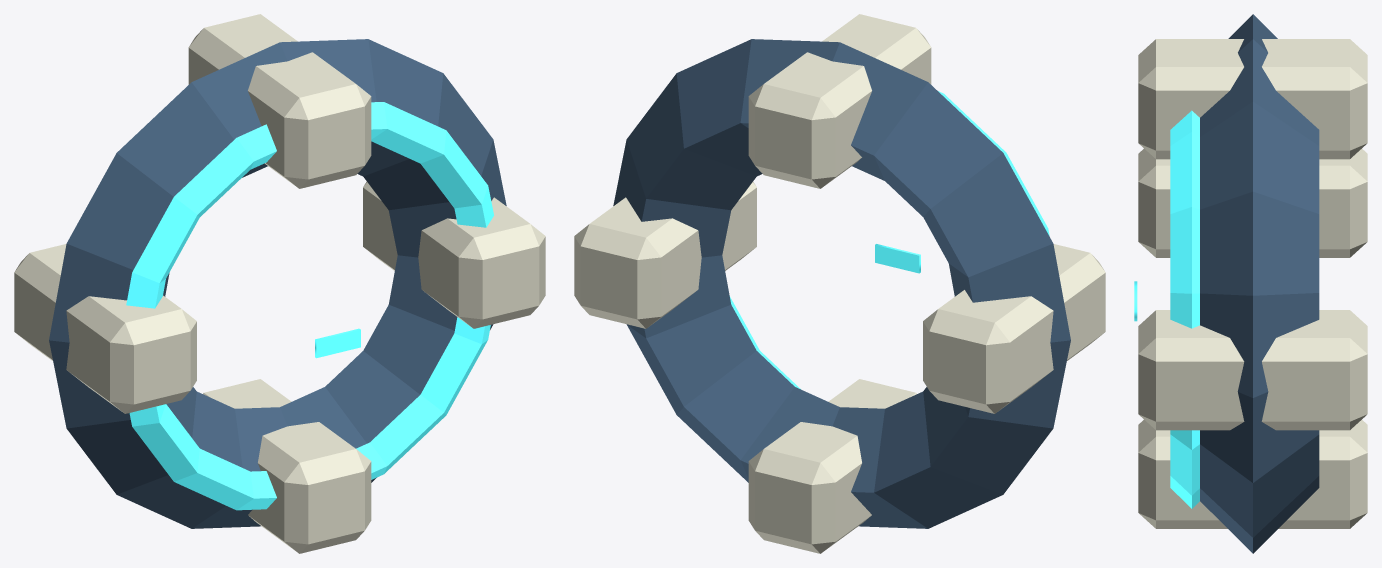
Rendered from shrink_ring.glb.
3 renders of one model, left to right at view 1: azimuth 30°, elevation 25°; view 2: azimuth 150°, elevation 25°; view 3: azimuth 270°, elevation 25°, orthographic.
Visible parts, largest first — view 1: Space gate, Active rim, Field coil.002, Field coil.001, Field coil, Field coil.003, Space glyph; view 2: Space gate, Field coil.002, Field coil.001, Field coil, Field coil.003, Active rim, Space glyph; view 3: Space gate, Field coil, Field coil.001, Field coil.003, Active rim, Field coil.002.
Boxes of the visible parts, x1,y1,x2,y2 form: Space gate: [49, 39, 506, 528]; Active rim: [126, 102, 493, 510]; Field coil.002: [14, 244, 196, 413]; Field coil.001: [188, 14, 371, 188]; Field coil: [363, 181, 545, 328]; Field coil.003: [203, 379, 371, 553]; Space glyph: [315, 328, 360, 358]; Space gate: [613, 39, 1070, 528]; Field coil.002: [923, 244, 1105, 413]; Field coil.001: [748, 14, 931, 188]; Field coil: [574, 181, 756, 328]; Field coil.003: [748, 379, 916, 553]; Active rim: [729, 91, 1049, 389]; Space glyph: [875, 244, 920, 273]; Space gate: [1200, 14, 1319, 553]; Field coil: [1138, 310, 1367, 430]; Field coil.001: [1138, 39, 1367, 159]; Field coil.003: [1138, 420, 1367, 528]; Active rim: [1170, 110, 1199, 508]; Field coil.002: [1138, 148, 1367, 257].
Size of the model in its own units: 1.06 by 1.06 by 0.458.
